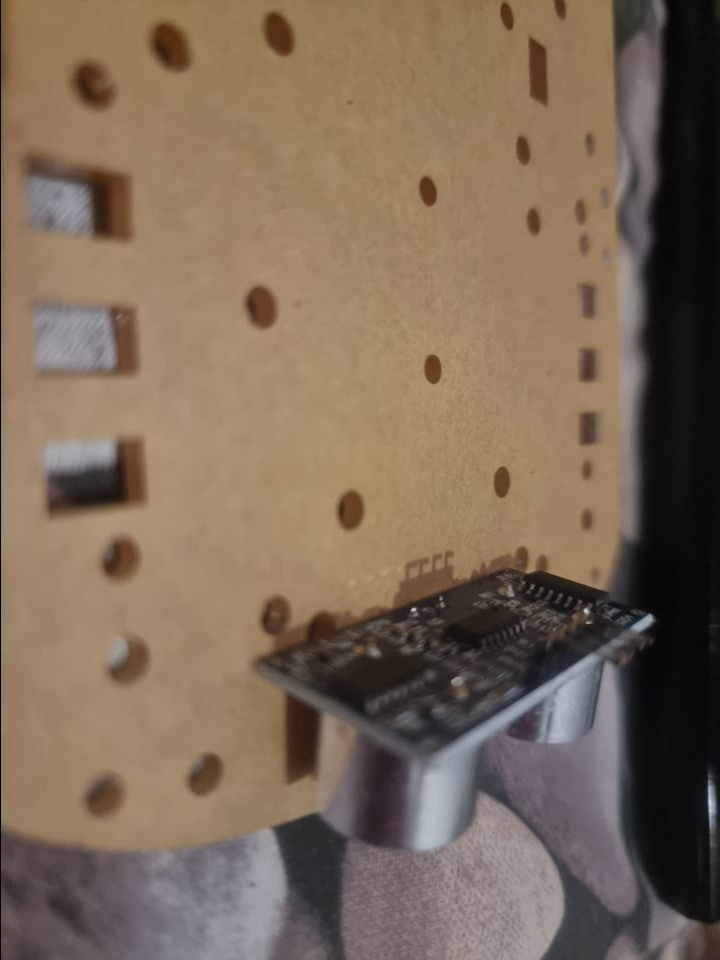SENSOR: (252, 561, 654, 854)
